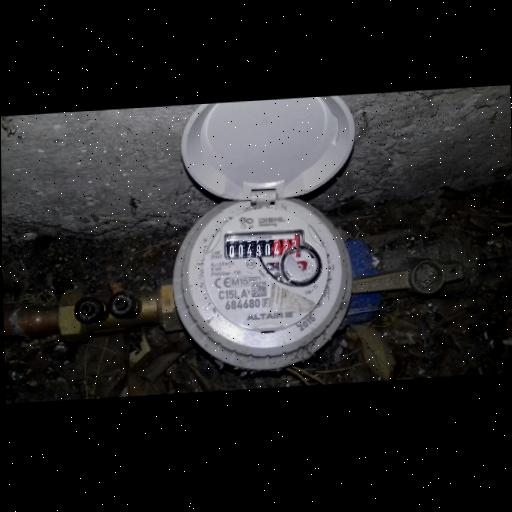0: (228, 241, 237, 259), (236, 241, 245, 259), (262, 240, 271, 257)
2: (281, 239, 290, 255), (289, 239, 300, 250)
4: (245, 240, 254, 258), (272, 239, 281, 255)
8: (254, 240, 263, 257)
border_water_meter_number: (225, 229, 305, 260)
